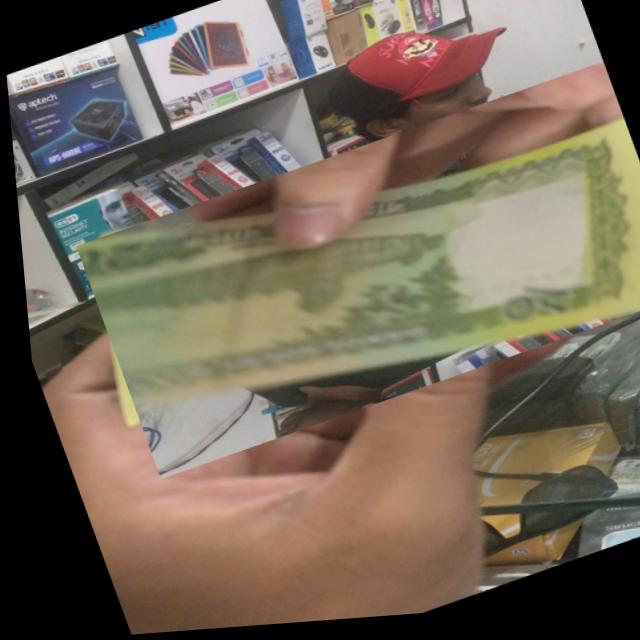Taka: (61, 68, 640, 484)
